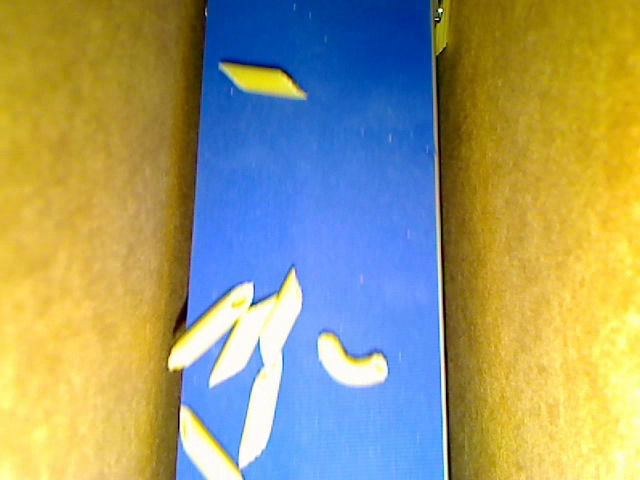elbow: (316, 332, 390, 391)
penne: (165, 282, 253, 374), (206, 292, 277, 389), (236, 348, 290, 469), (178, 395, 247, 479), (258, 267, 309, 364), (218, 58, 307, 101), (432, 1, 448, 59)
